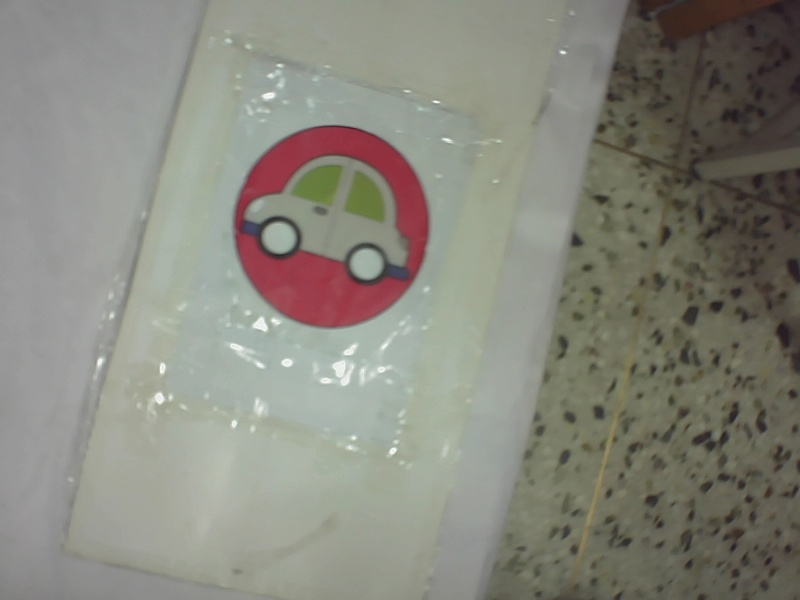areaC: (225, 112, 432, 334)
